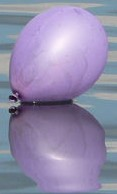Balloon: (9, 6, 107, 103)
